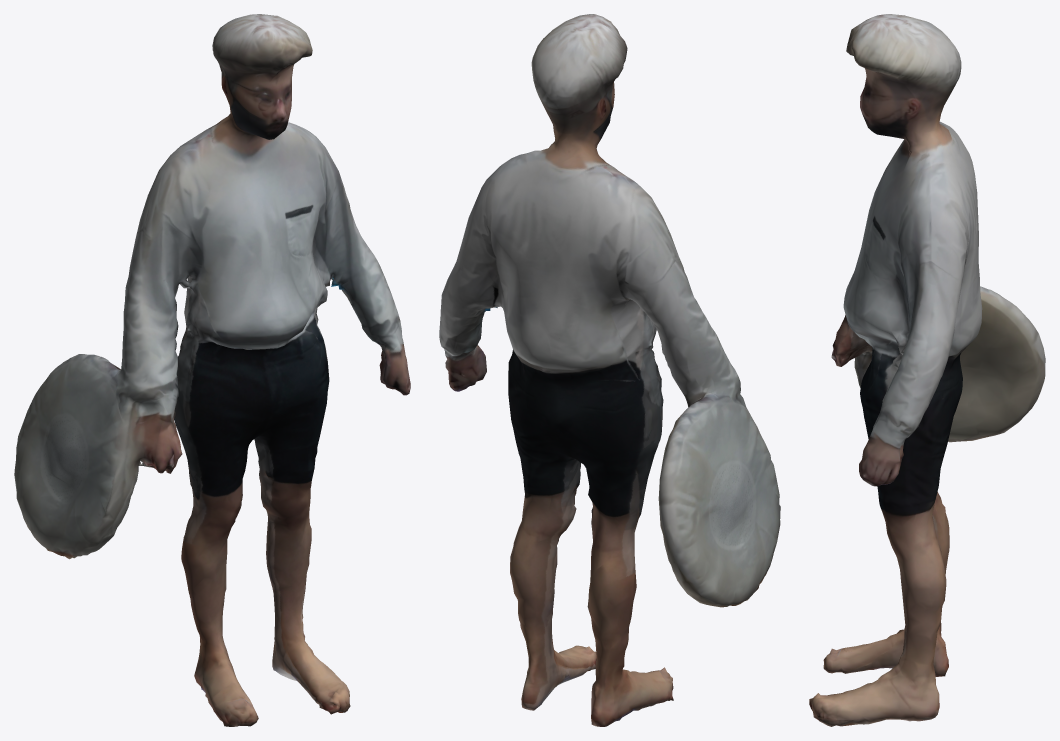
Rendered from sweater.glb.
The picture shows the model from 3 angles, left to right: view 1: azimuth 30°, elevation 25°; view 2: azimuth 150°, elevation 25°; view 3: azimuth 270°, elevation 25°; orthographic projection.
Size of the model in its own units: 0.6144 by 1.2 by 0.3771.
Materials: 1 (1 with a texture image).
